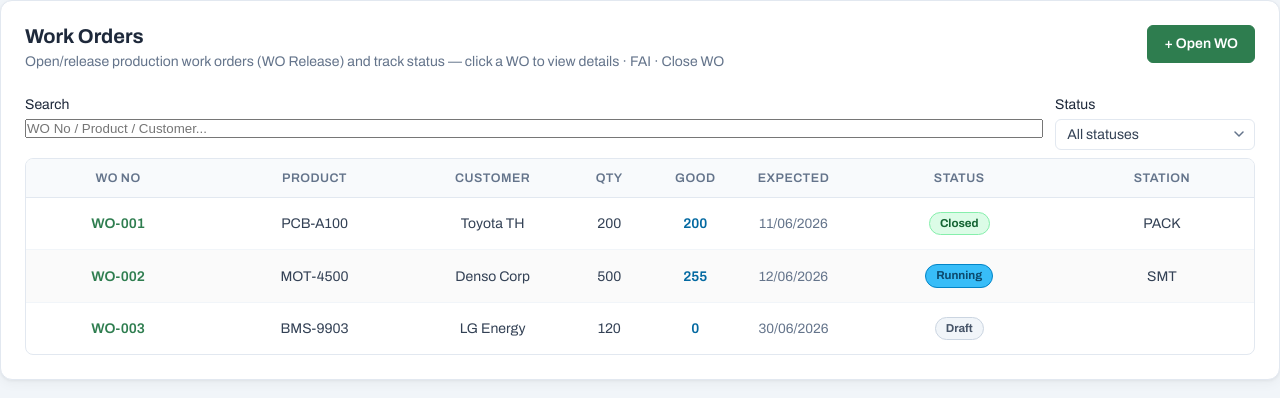
it: WorkOrdersPage search/filter › search box filters by product code
Type "MOT-4500" into the field with placeholder "WO No / Product / Customer..." at (534, 128), box [25,119,1043,138]
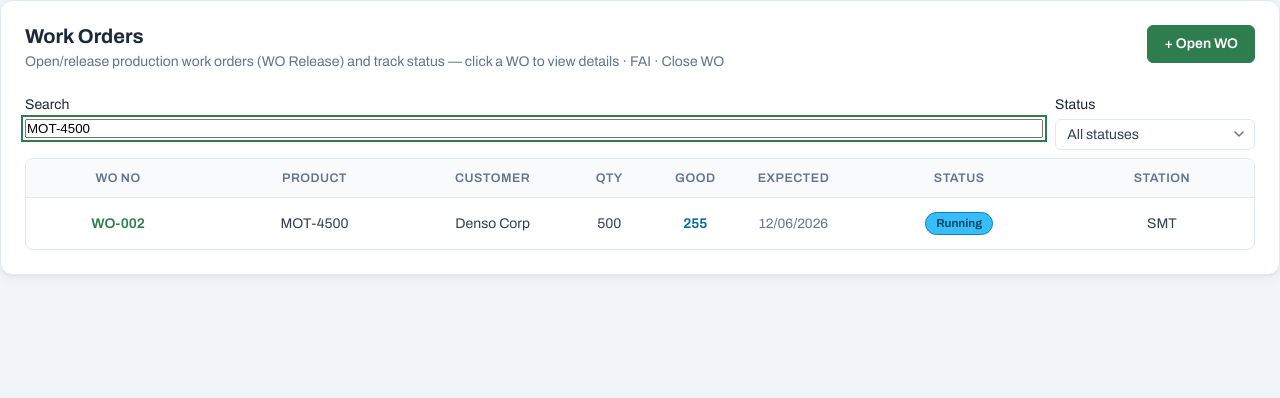
Expected: the text "WO-002" is shown, [26,198,210,250]
Expected: the button "WO-001" is gone
Expected: the button "WO-003" is gone
